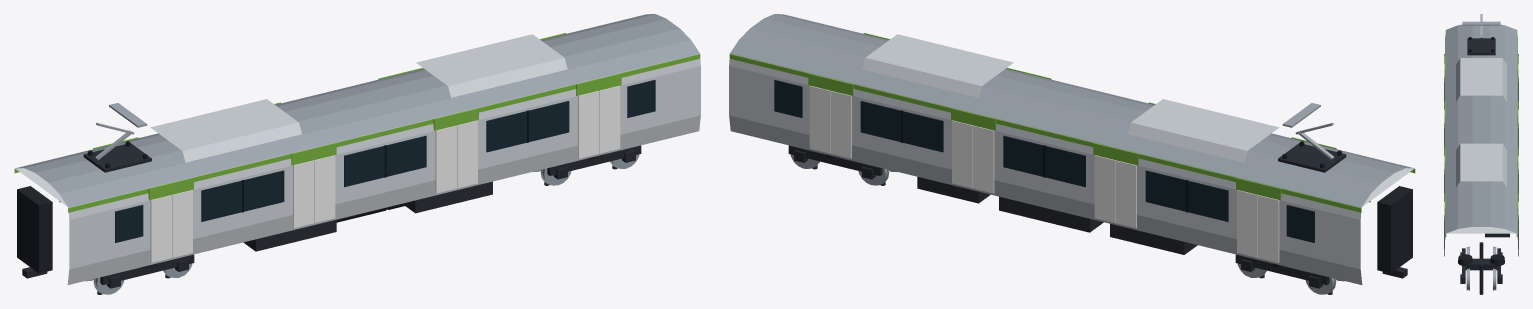
File: jr-east-e235-0-mid.glb
3 views of the same model, side by side, from view 1: azimuth 30°, elevation 25°; view 2: azimuth 150°, elevation 25°; view 3: azimuth 270°, elevation 25° (orthographic). The views are drawn at different scales.
Parts seen in each view (by area): view 1: Body_Shell, Roof_Crown, Doors_And_Windows, Roof_HVAC (×2), Gangway_Rear, Underfloor_Equipment, Car_Canonical, Door_R_1_Rear, Door_R_2_Rear, Door_R_4_Fwd, Door_R_4_Rear, Door_R_2_Fwd (+7 smaller); view 2: Body_Shell, Roof_Crown, Doors_And_Windows, Roof_HVAC (×2), Underfloor_Equipment, Gangway_Rear, Car_Canonical, Door_L_1_Rear, Door_L_2_Rear, Door_L_4_Fwd, Door_L_4_Rear, Door_L_2_Fwd (+7 smaller); view 3: Roof_Crown, Roof_HVAC (×2), Bogie_Front, Body_Shell, Doors_And_Windows, Pantograph, Car_Canonical, Wheelset_Front, Pantograph_Arm, Wheelset_Rear, Underfloor_Equipment.
Boxes of the visible parts, x1=… form: Body_Shell: x1=15, y1=53, x2=700, y2=284; Roof_Crown: x1=16, y1=14, x2=699, y2=207; Doors_And_Windows: x1=59, y1=33, x2=655, y2=242; Roof_HVAC (×2): x1=150, y1=34, x2=567, y2=162; Gangway_Rear: x1=17, y1=186, x2=52, y2=278; Underfloor_Equipment: x1=243, y1=181, x2=492, y2=251; Car_Canonical: x1=14, y1=54, x2=700, y2=212; Door_R_1_Rear: x1=150, y1=195, x2=171, y2=262; Door_R_2_Rear: x1=293, y1=160, x2=314, y2=228; Door_R_4_Fwd: x1=599, y1=85, x2=620, y2=153; Door_R_4_Rear: x1=578, y1=91, x2=599, y2=158; Door_R_2_Fwd: x1=314, y1=155, x2=335, y2=222; Body_Shell: x1=729, y1=53, x2=1414, y2=284; Roof_Crown: x1=730, y1=14, x2=1413, y2=207; Doors_And_Windows: x1=774, y1=33, x2=1370, y2=242; Roof_HVAC (×2): x1=862, y1=34, x2=1279, y2=162; Underfloor_Equipment: x1=917, y1=177, x2=1197, y2=254; Gangway_Rear: x1=1377, y1=186, x2=1412, y2=278; Car_Canonical: x1=729, y1=54, x2=1415, y2=212; Door_L_1_Rear: x1=1258, y1=195, x2=1279, y2=262; Door_L_2_Rear: x1=1115, y1=160, x2=1136, y2=228; Door_L_4_Fwd: x1=809, y1=85, x2=830, y2=153; Door_L_4_Rear: x1=830, y1=91, x2=851, y2=158; Door_L_2_Fwd: x1=1094, y1=155, x2=1115, y2=222; Roof_Crown: x1=1446, y1=24, x2=1516, y2=233; Roof_HVAC (×2): x1=1456, y1=58, x2=1506, y2=187; Bogie_Front: x1=1458, y1=248, x2=1504, y2=283; Body_Shell: x1=1445, y1=34, x2=1517, y2=239; Doors_And_Windows: x1=1444, y1=54, x2=1518, y2=255; Pantograph: x1=1467, y1=37, x2=1495, y2=55; Car_Canonical: x1=1445, y1=30, x2=1517, y2=236; Wheelset_Front: x1=1466, y1=264, x2=1496, y2=294; Pantograph_Arm: x1=1462, y1=14, x2=1500, y2=38; Wheelset_Rear: x1=1466, y1=242, x2=1496, y2=258; Underfloor_Equipment: x1=1485, y1=233, x2=1509, y2=237.
Bounding box in the file's own units: 20.02 × 5.09 × 3.03.
